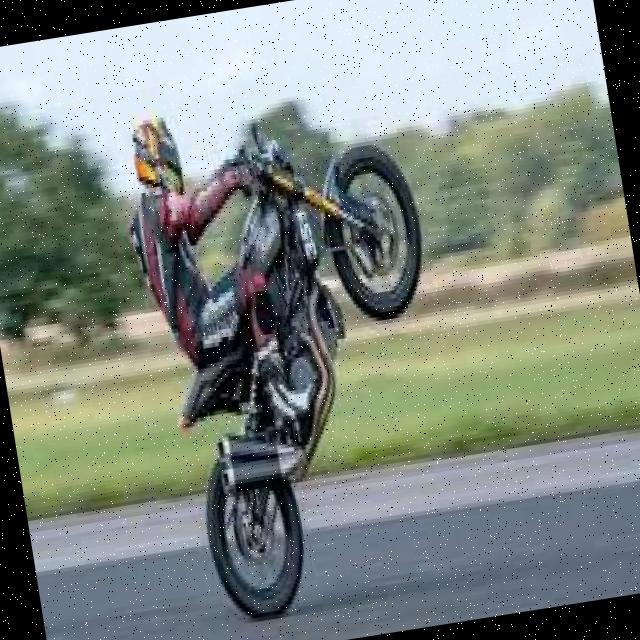Wheeling: (108, 57, 482, 636)
